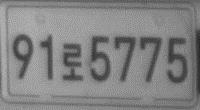1: (39, 33, 55, 82)
5: (88, 35, 111, 82), (165, 37, 187, 85)
7: (111, 35, 137, 82), (139, 35, 162, 84)
9: (10, 33, 35, 81)
로: (61, 41, 85, 82)
